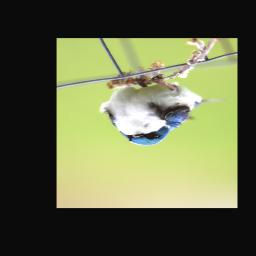Swallow: (99, 74, 231, 146)
